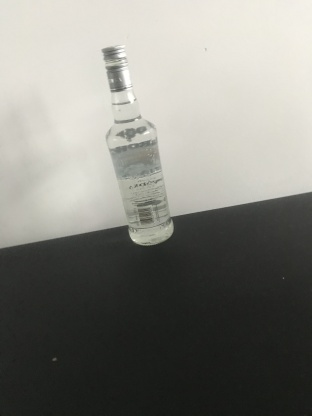nakretka: (100, 42, 133, 93)
